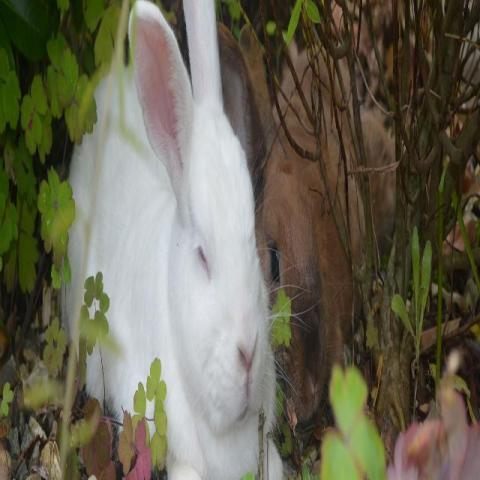small_animal: (57, 0, 287, 478)
